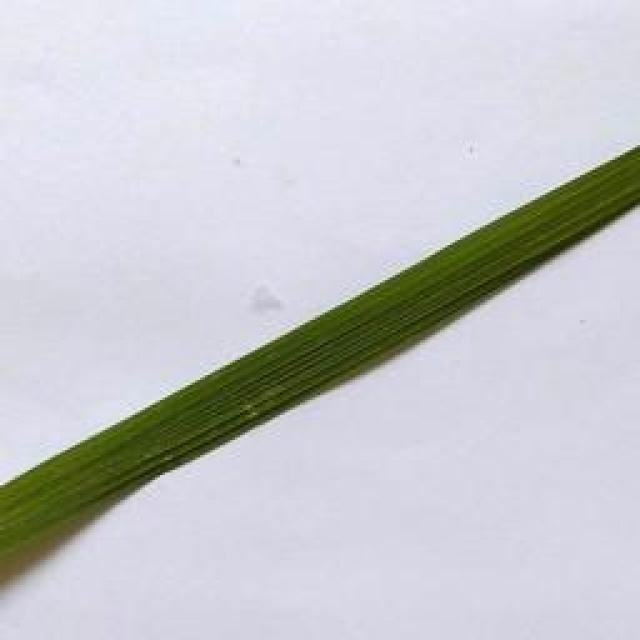Healthy-Plant: (0, 142, 640, 560)
